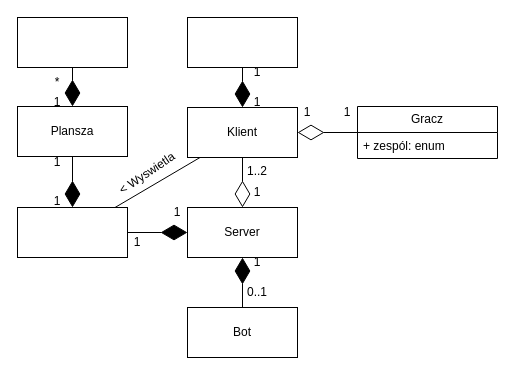
Image size: 515x375. Some labels were removed from this diagram. The shapes that lost their labels are listed below. From the top down, each one's box as (x1, y1, x2, y2) in pixels, then its label:
(16, 16, 128, 68): Krążek
(186, 16, 298, 68): Menu
(16, 206, 128, 258): Rozgrywka
